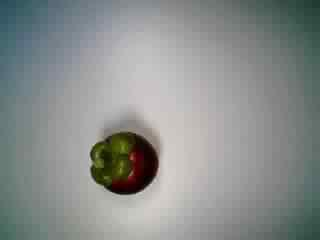mangosteen: (84, 126, 160, 197)
